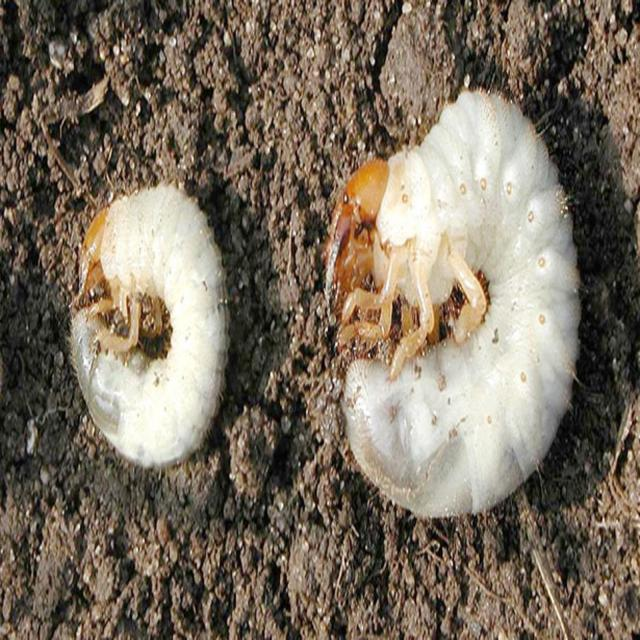Grub-Adult-: (309, 48, 581, 536), (58, 153, 253, 506)
